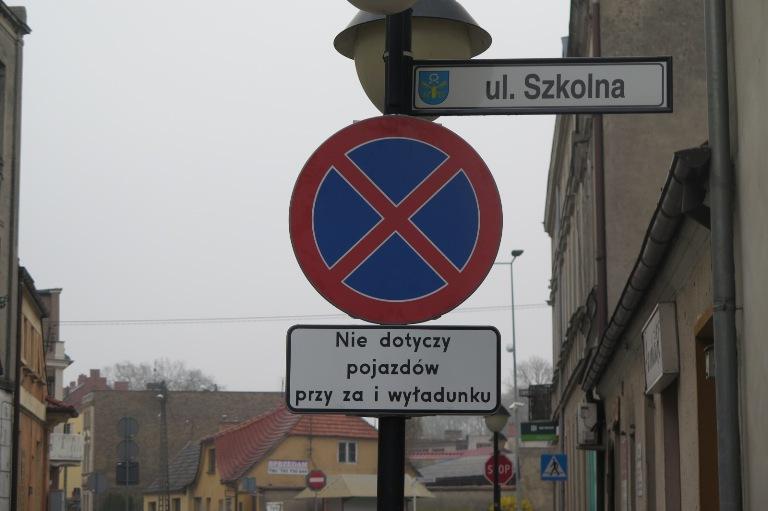no_stopping_sign: (287, 113, 503, 323)
